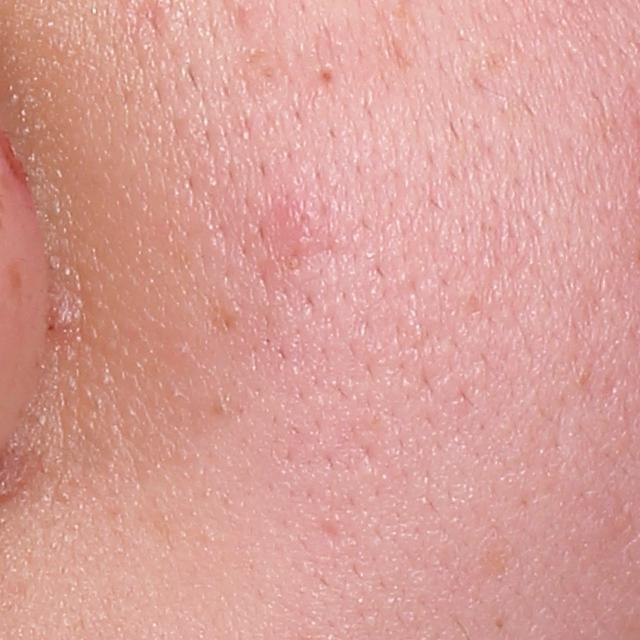atrophic_scar: (317, 518, 346, 549)
comedo: (316, 62, 337, 85)
